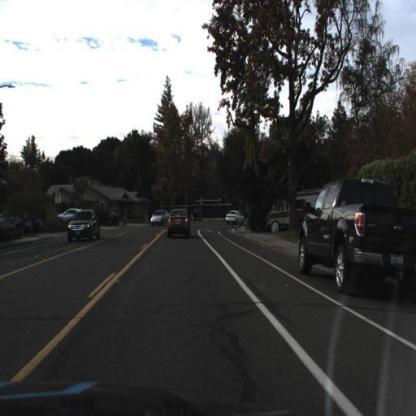car: (296, 177, 416, 300), (263, 180, 329, 240), (66, 211, 102, 244), (167, 207, 192, 239), (149, 206, 171, 228), (60, 208, 82, 221), (228, 211, 244, 227)
